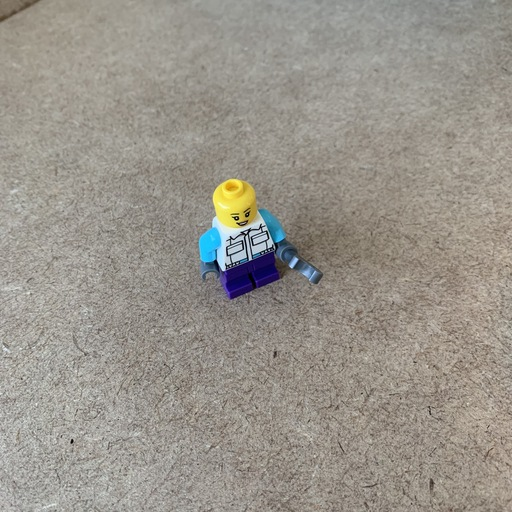human: (197, 169, 290, 305)
